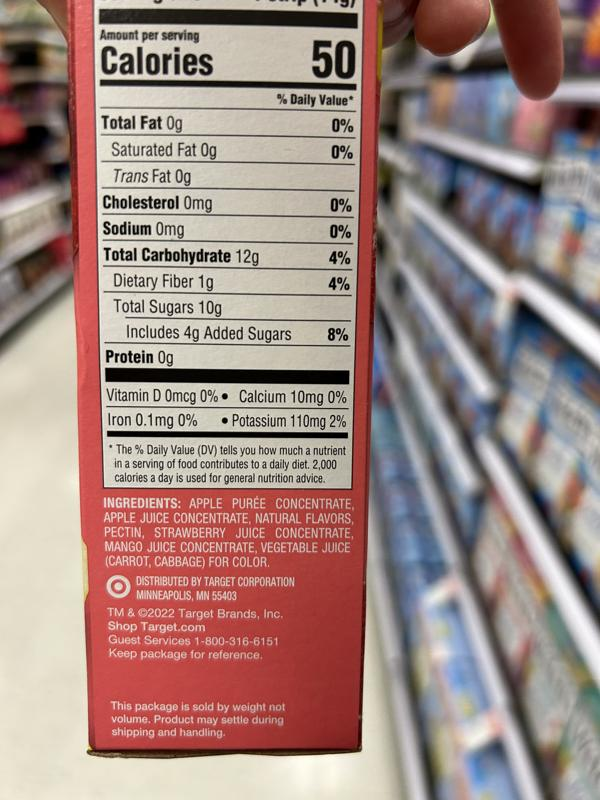ingredients: (102, 495, 354, 570)
